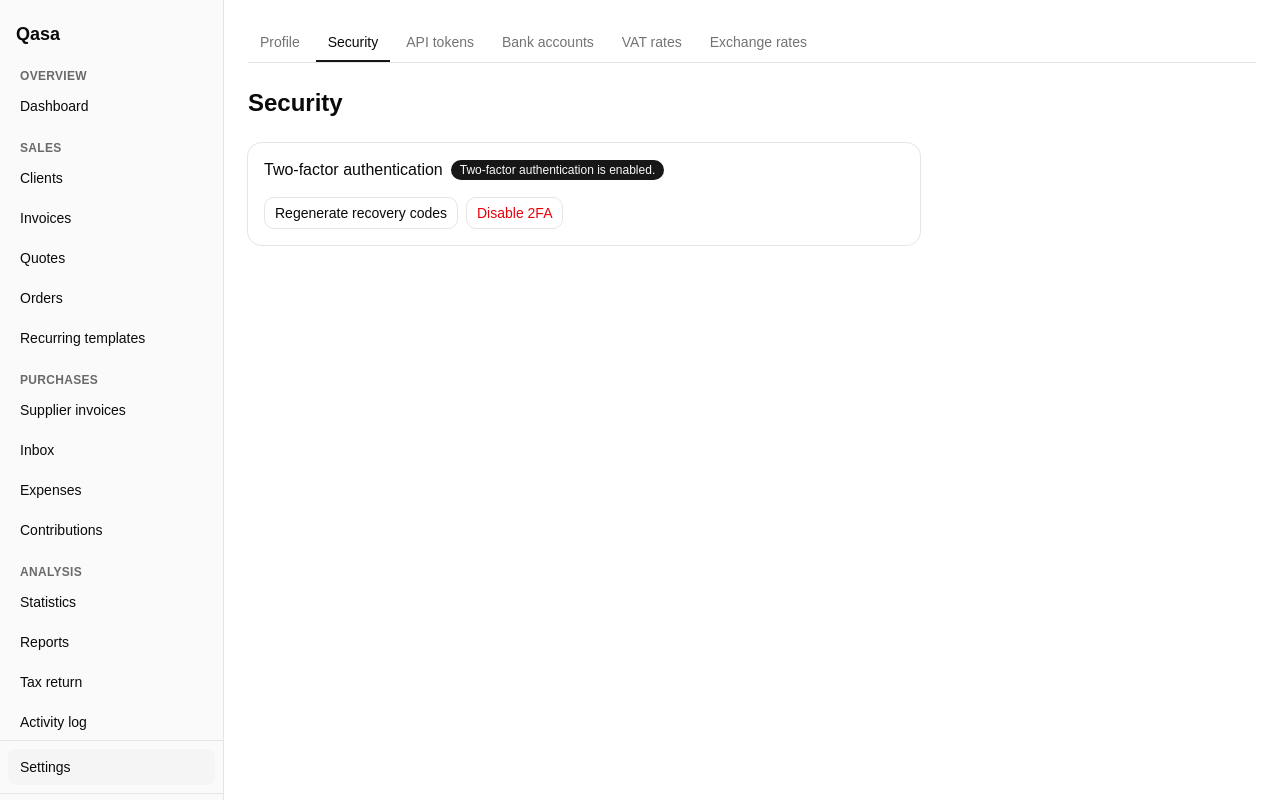
it: security settings — two-factor authentication › disables 2FA with password and code
The width and height of the screenshot is (1280, 800).
Click the button "Disable 2FA" at x=515, y=213, box [466,197,564,229]
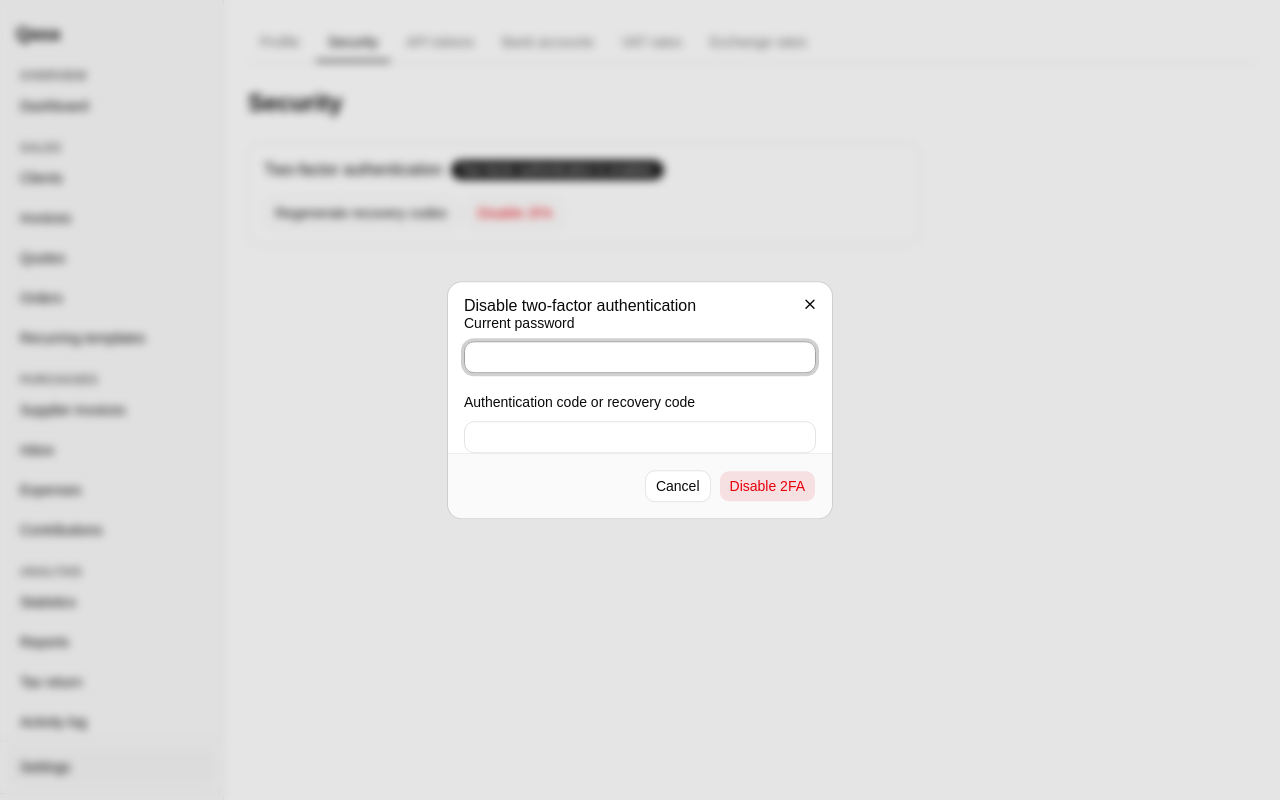
Check: the password field labelled "Current password" is shown
Type "secret123" into the password field labelled "Current password" at x=640, y=358, box [464,342,816,374]
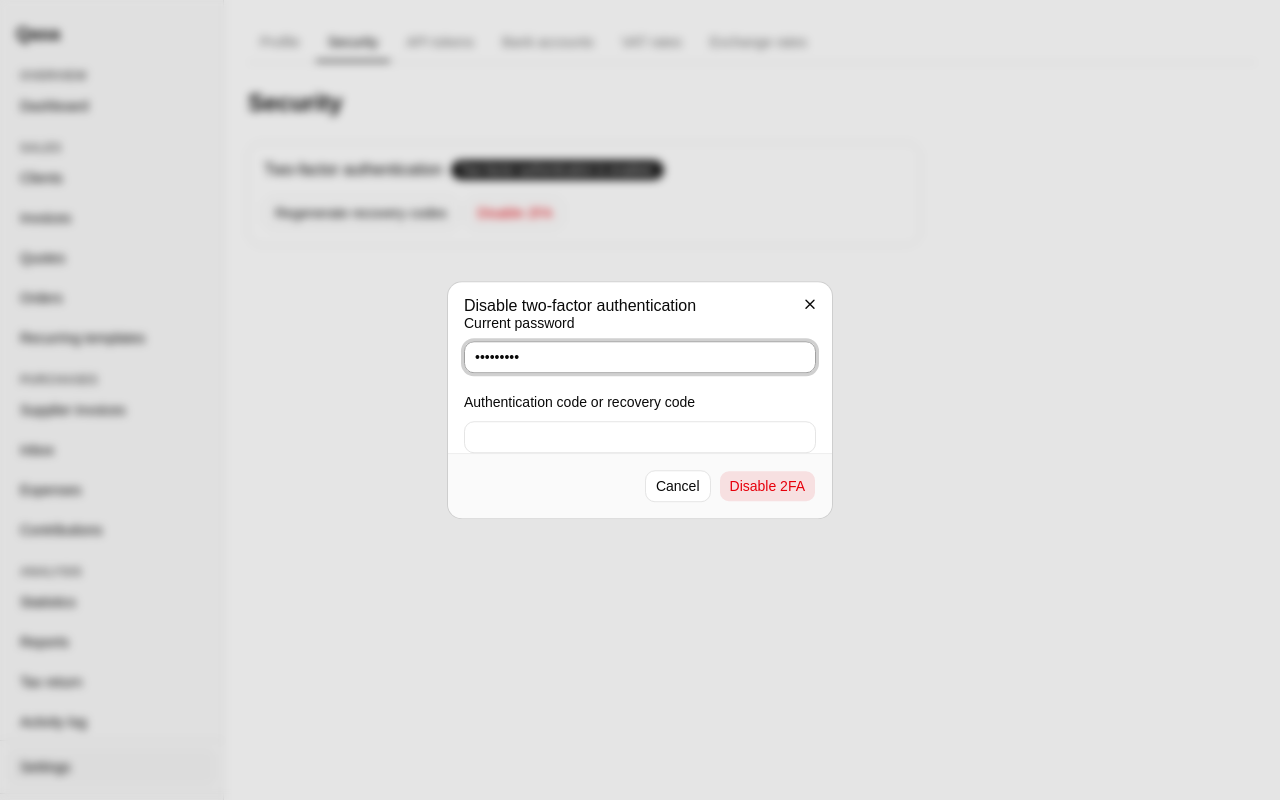
Type "123456" into the field labelled "Authentication code or recovery code" at x=640, y=437, box [464,421,816,453]
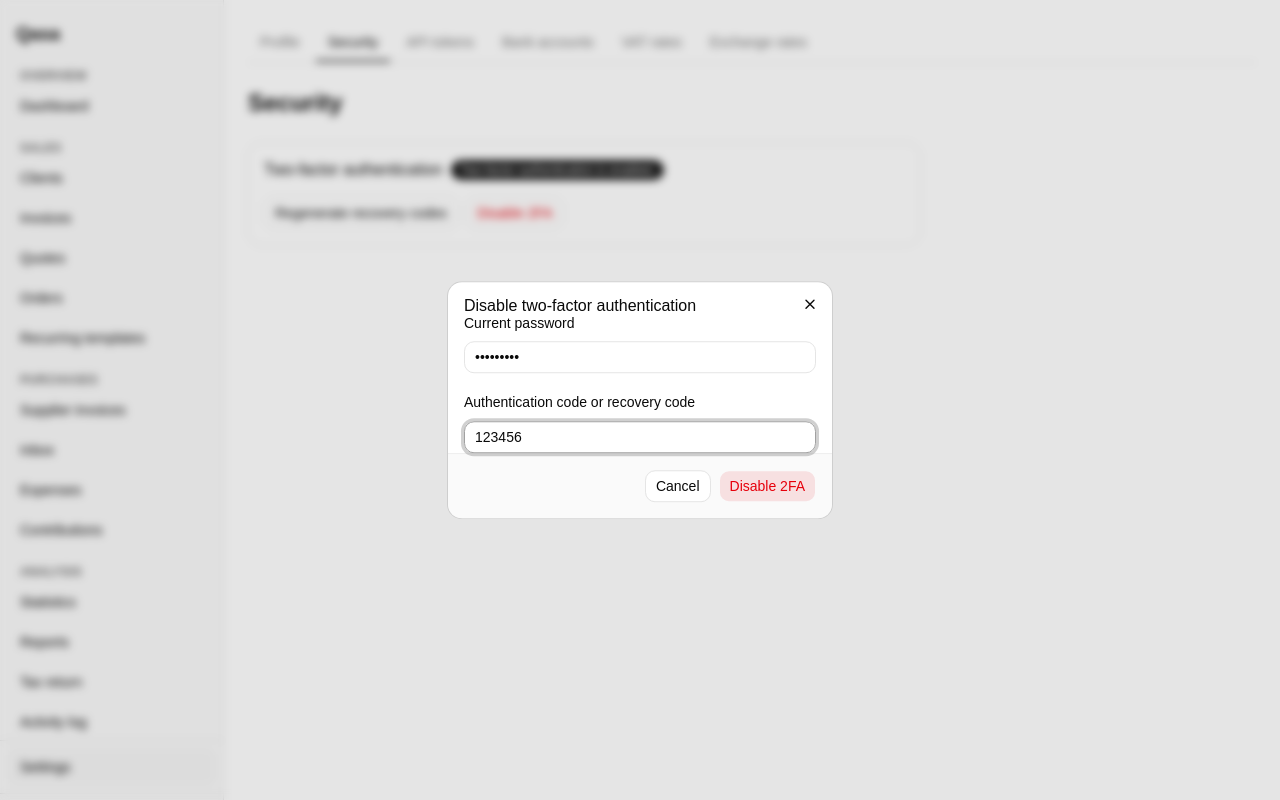
Click the button "Disable 2FA" at x=767, y=486, box [718,470,816,502]
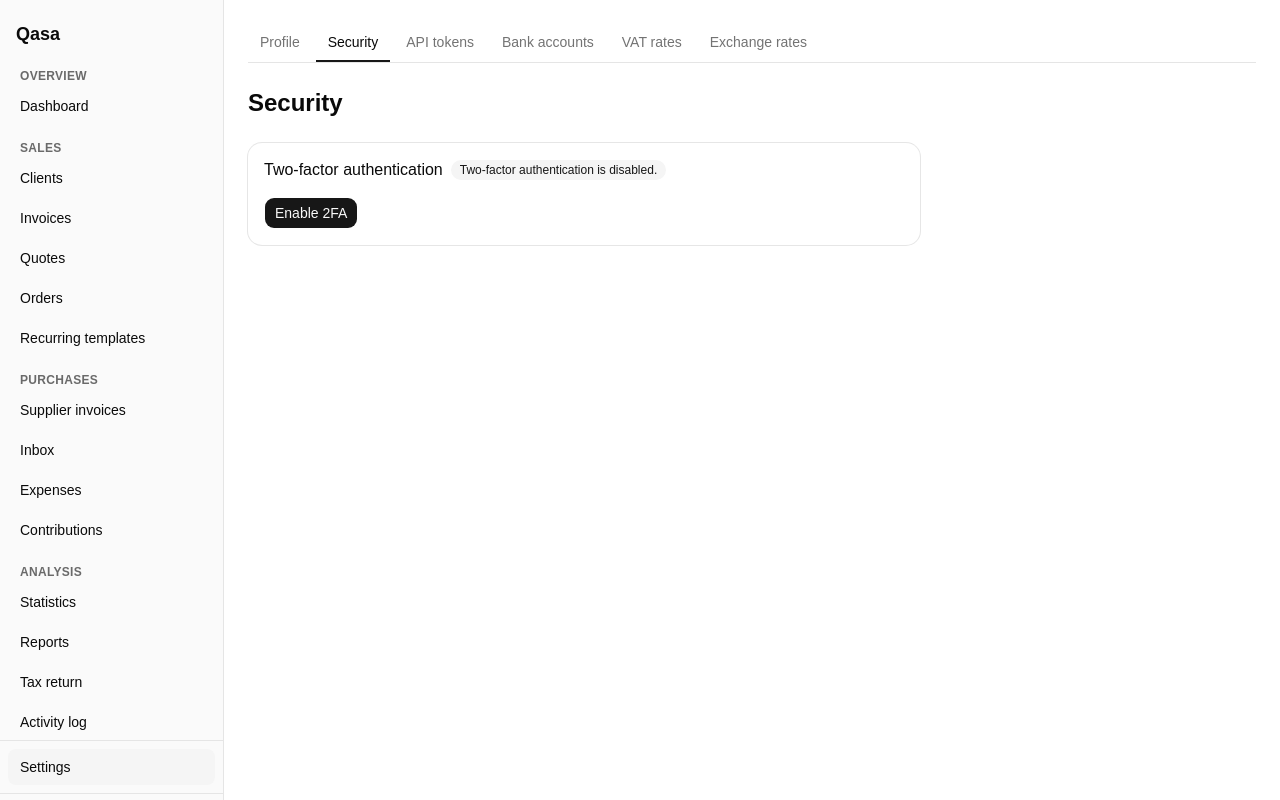
Check: the text "Two-factor authentication is disabled." is shown, box [451,160,666,180]
